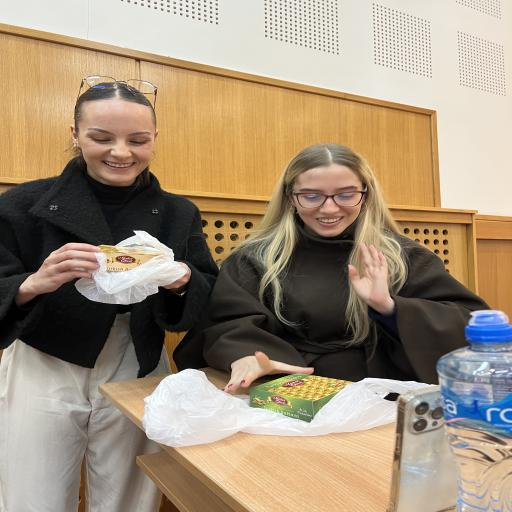marija: (79, 98, 156, 183)
